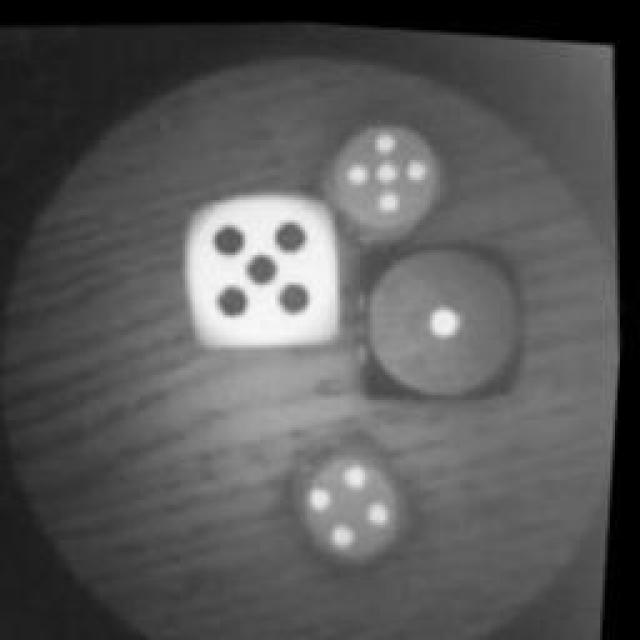dice_1: (348, 221, 542, 411)
dice_4: (286, 427, 432, 565)
dice_5: (175, 175, 370, 365), (310, 98, 465, 258)
